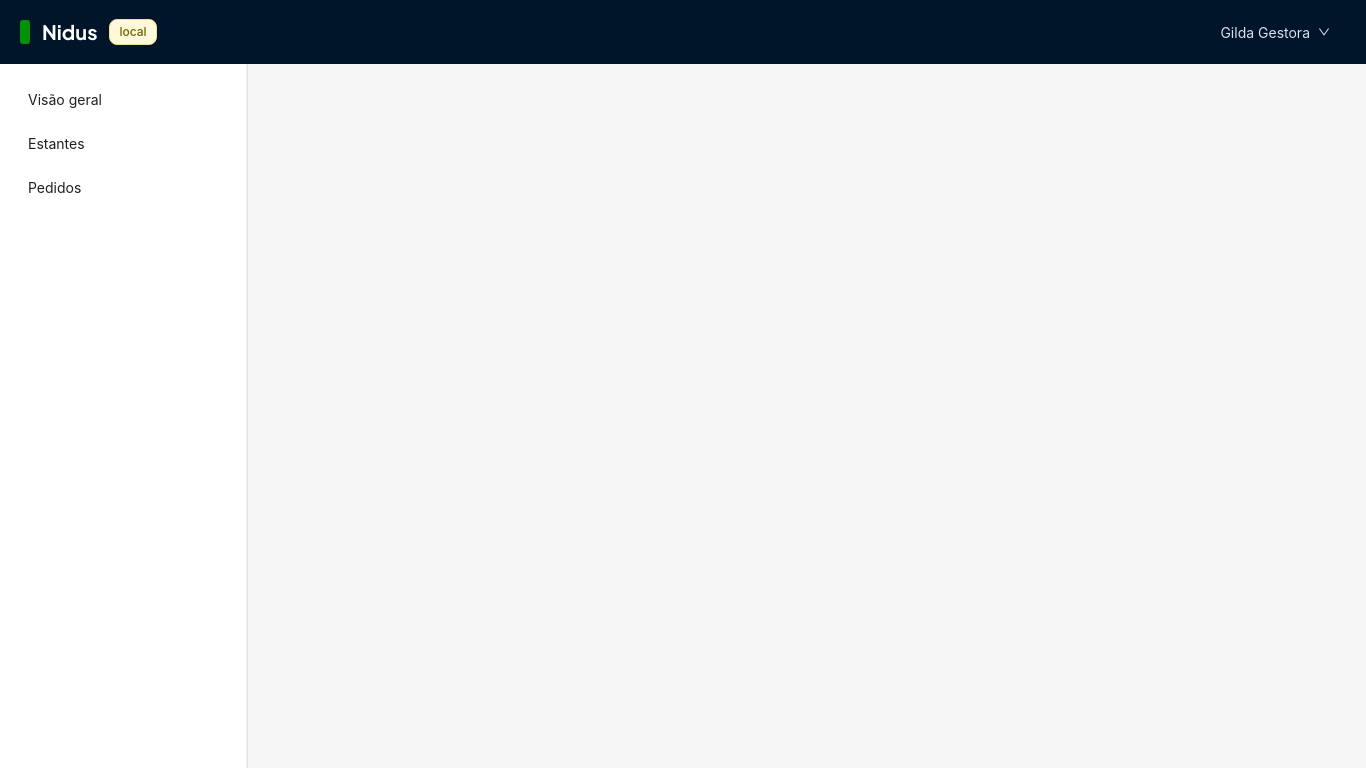
menu da conta › no cabeçalho fica só o nome; Configurações e Sair abrem num menu
This screenshot has width=1366, height=768.
expect the text "Sair" is not shown: met
Click the button with aria-label "Menu da conta de Gilda Gestora" at (1275, 32), box [1204, 16, 1346, 48]
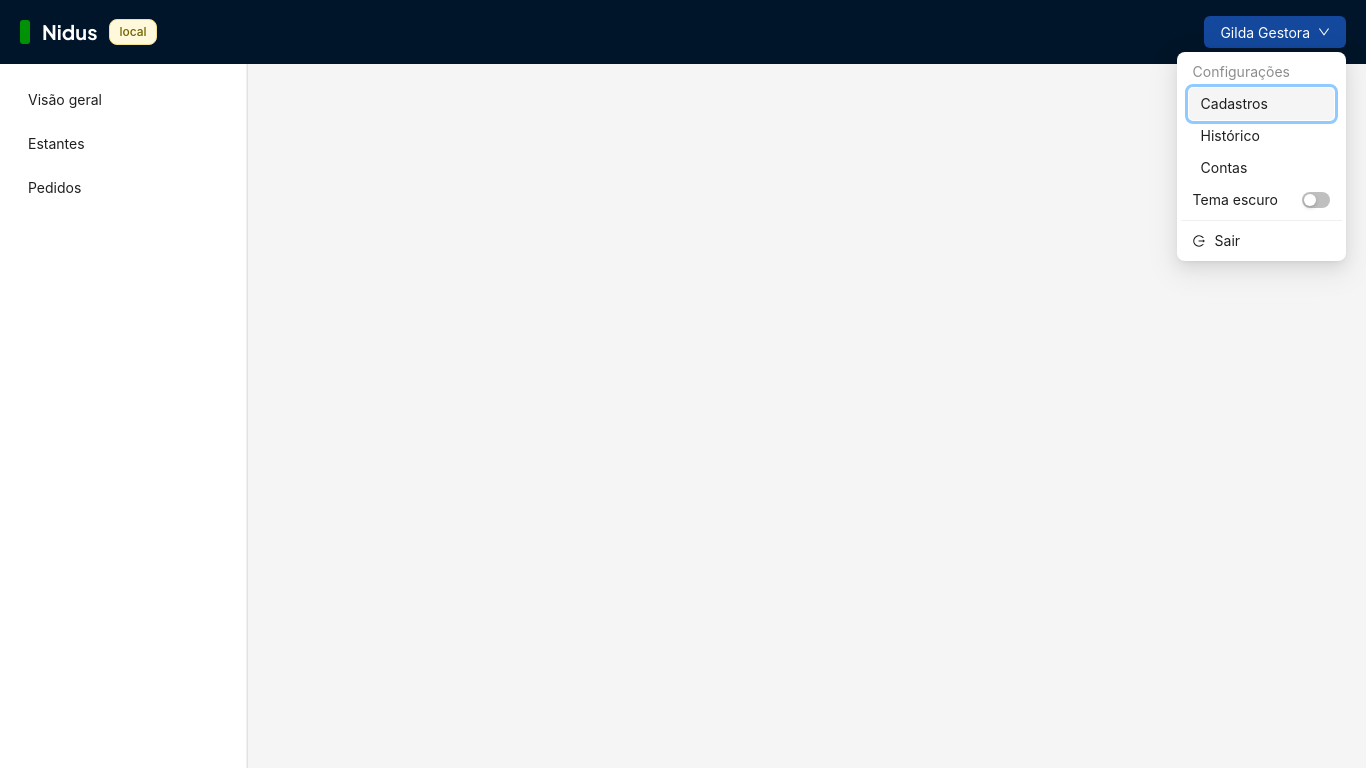
expect the text "Configurações" is shown: met, box [1193, 63, 1290, 80]
expect the menu item "Cadastros" is shown: met, box [1189, 88, 1334, 120]
expect the menu item "Histórico" is shown: met, box [1201, 127, 1260, 144]
